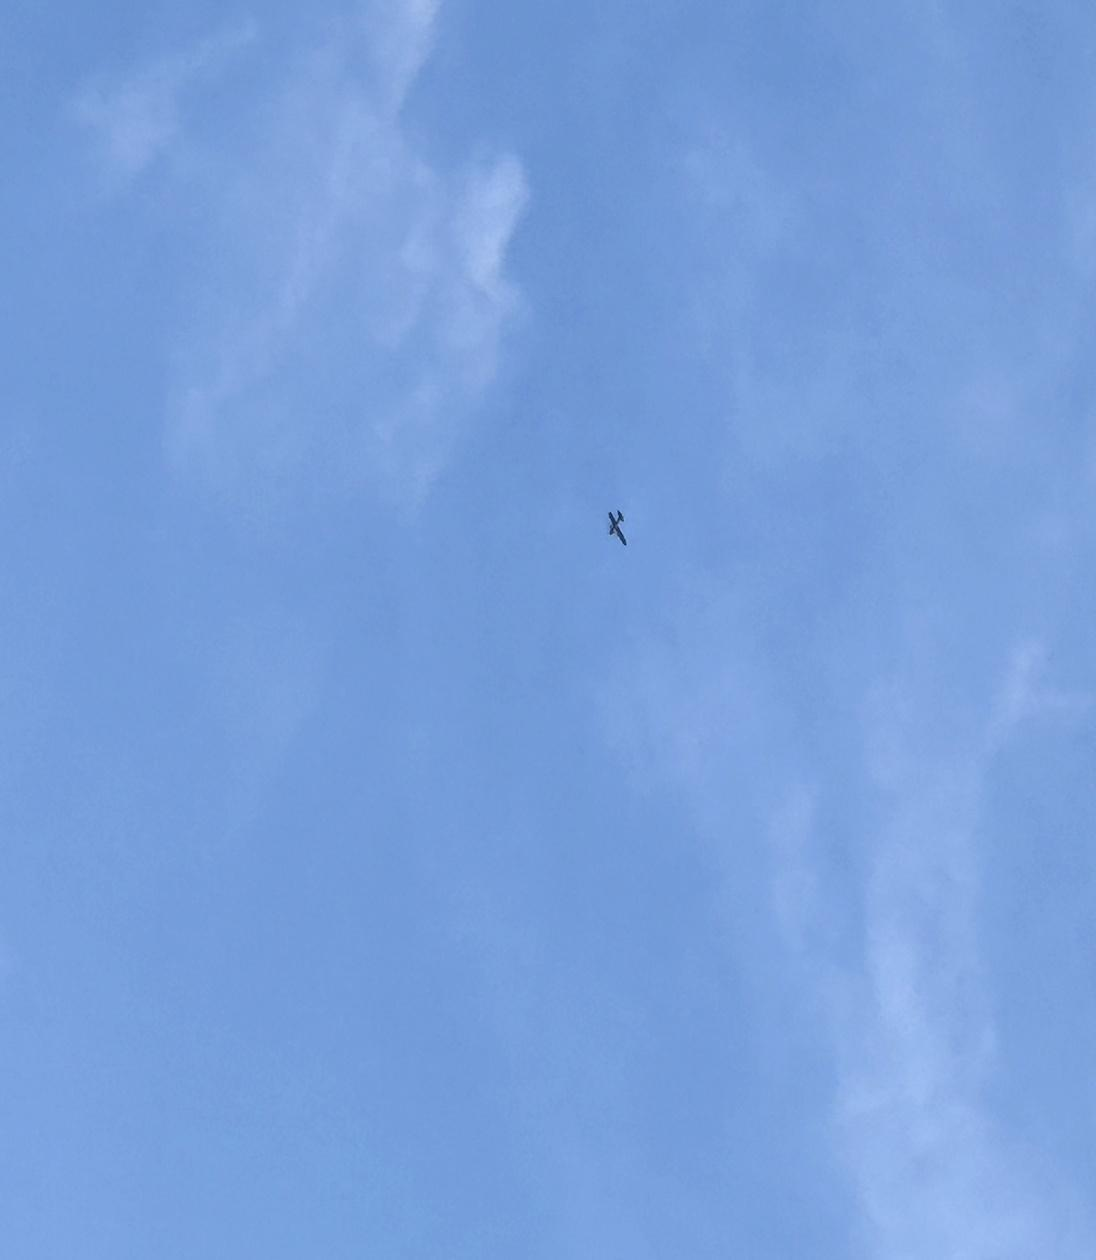Plane: (590, 490, 645, 566)
